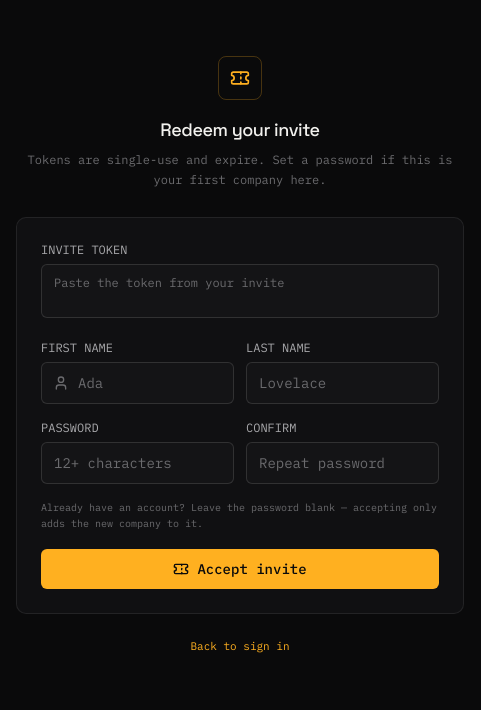
Test: AcceptInvite accessibility and reliability › announces an invalid or expired invitation error and moves focus to it
The width and height of the screenshot is (481, 710).
Type "invite-token-9f2c" into the text box labelled "Invite Token" at (240, 291), box [41,264,439,318]
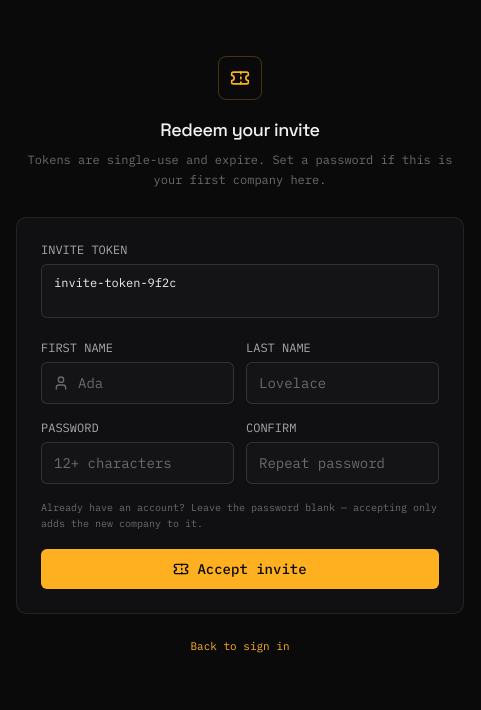
Submit the form, box [16,217,464,614]
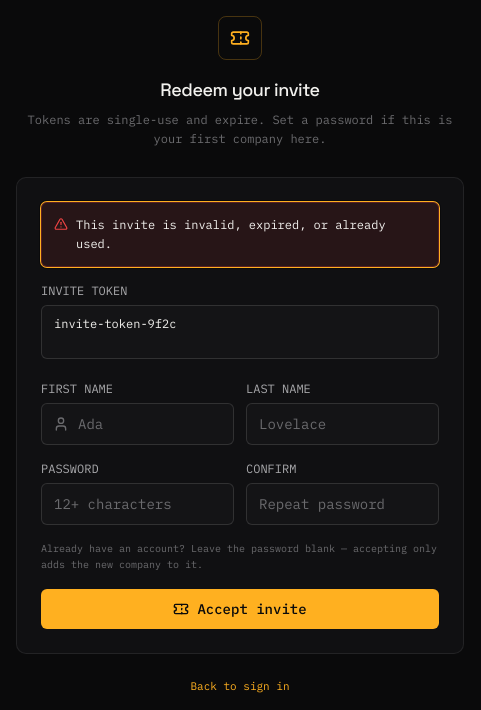
expect the message reads "This invite is invalid, expired, or already used.": met, box [76,216,386,251]
